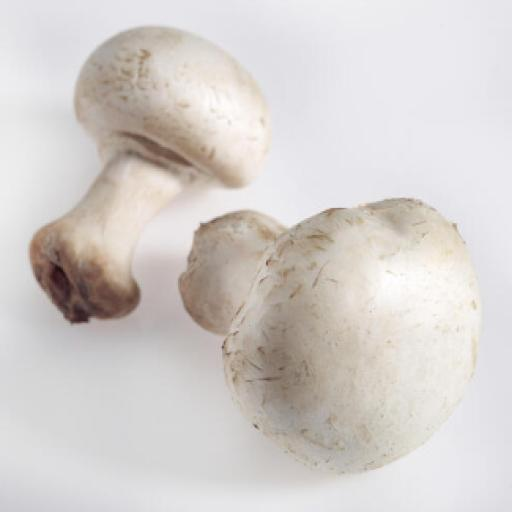Button Mushroom: (182, 193, 492, 481), (29, 24, 273, 326)
